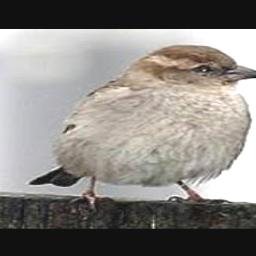Sparrow: (27, 44, 256, 212)
